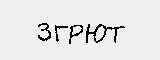Г: (51, 22, 67, 44)
З: (35, 22, 54, 43)
Р: (67, 22, 86, 48)
Т: (106, 22, 125, 42)
Ю: (83, 20, 107, 46)
